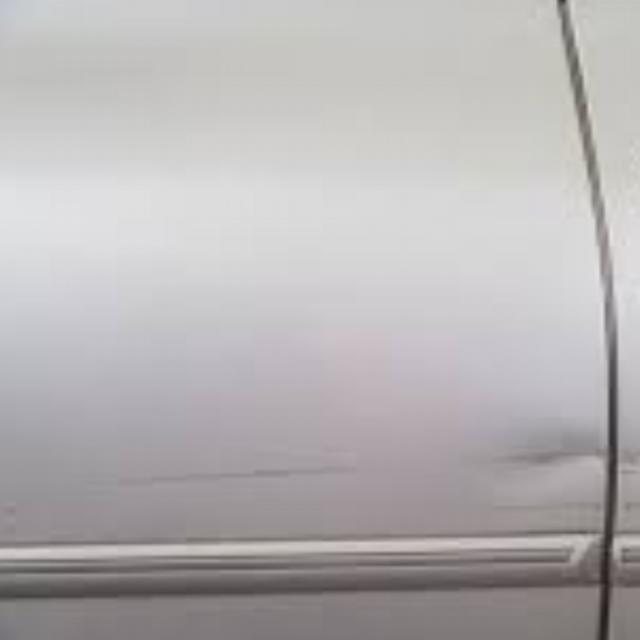dents: (414, 406, 640, 509)
